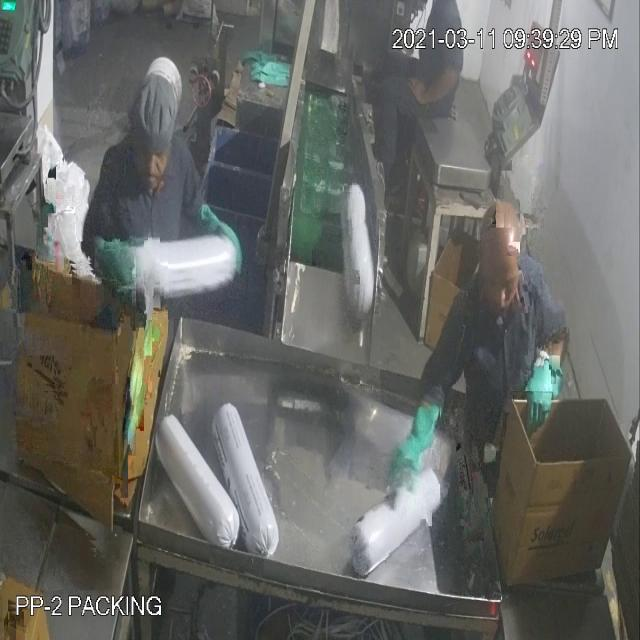gloves: (381, 382, 458, 504), (520, 348, 570, 442)
no-gloves: (408, 58, 472, 114)
